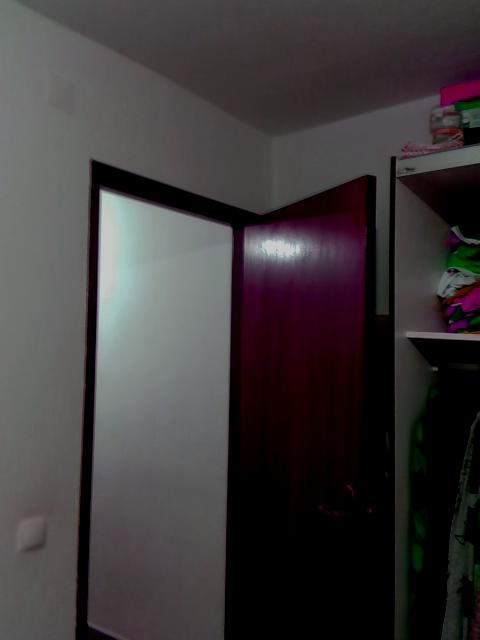open_door: (73, 155, 272, 639)
